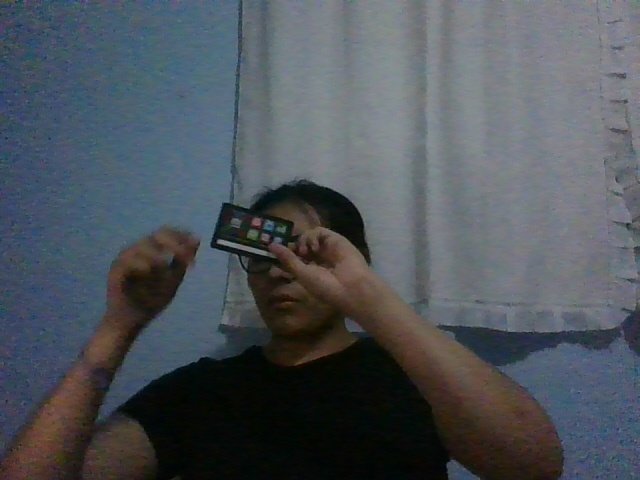tarjeta: (209, 201, 293, 264)
